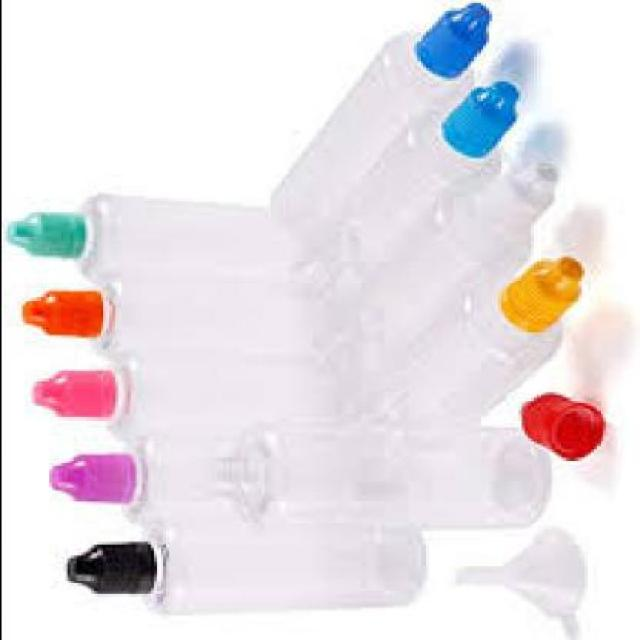PLASTIC: (304, 163, 550, 368), (299, 82, 515, 304), (269, 0, 485, 205), (323, 253, 577, 416), (203, 422, 548, 532), (59, 515, 419, 610), (25, 346, 320, 442), (18, 267, 302, 359), (1, 191, 293, 280), (42, 438, 326, 528), (454, 525, 586, 638), (497, 253, 580, 330), (434, 78, 514, 156), (511, 392, 604, 458), (410, 2, 484, 80), (467, 164, 553, 231), (63, 541, 152, 594), (27, 365, 113, 417), (42, 452, 135, 498), (18, 288, 102, 338), (3, 210, 80, 253)
